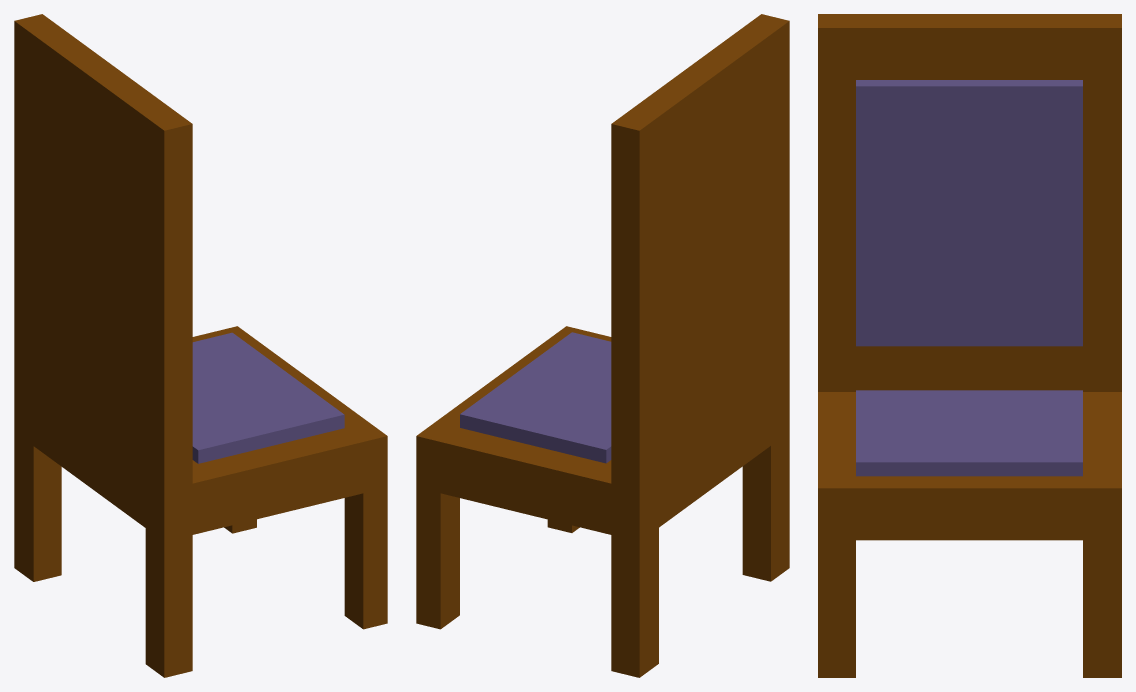
Rendered from chair.fbx.
3 renders of one model, left to right at view 1: azimuth 30°, elevation 25°; view 2: azimuth 150°, elevation 25°; view 3: azimuth 270°, elevation 25°, orthographic.
Parts seen in each view (by area): view 1: Cube; view 2: Cube; view 3: Cube.
Part boxes in pixels (bbox=[...]): Cube: bbox=[14, 14, 387, 677]; Cube: bbox=[416, 14, 789, 677]; Cube: bbox=[818, 14, 1121, 677].
Bounding box in the file's own units: 172 × 402 × 200.
